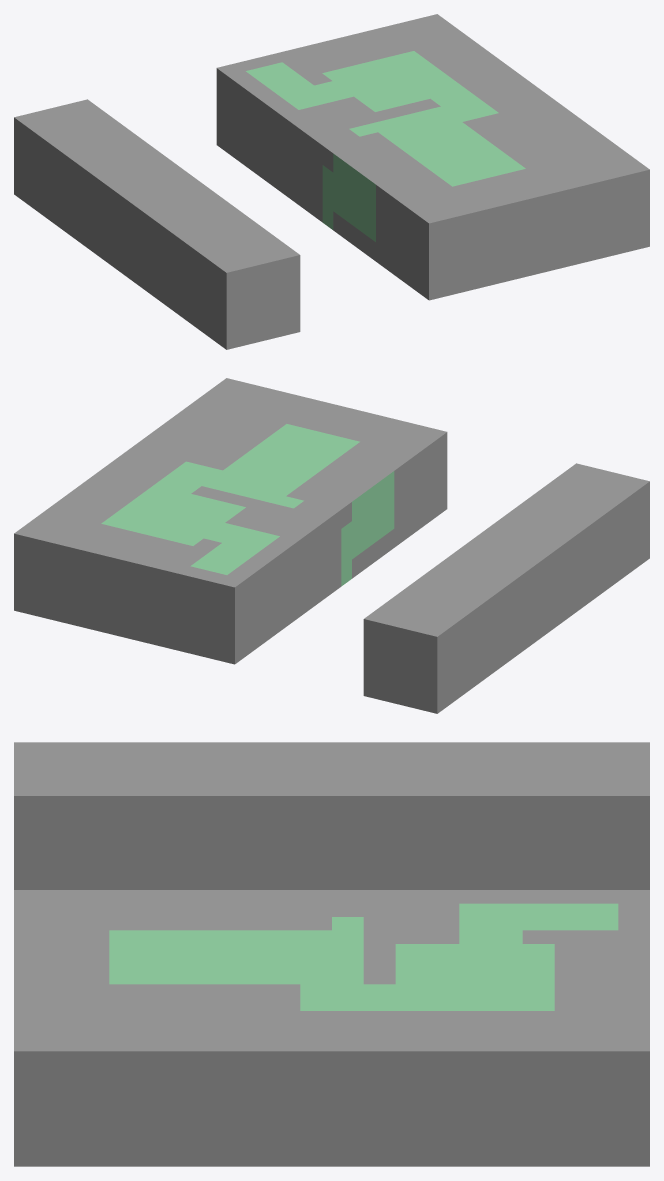
The picture shows the model from 3 angles, top to bottom: view 1: azimuth 30°, elevation 25°; view 2: azimuth 150°, elevation 25°; view 3: azimuth 270°, elevation 25°; orthographic projection. The views are drawn at different scales.
Size of the model in its own units: 1 by 0.1739 by 0.8696.
